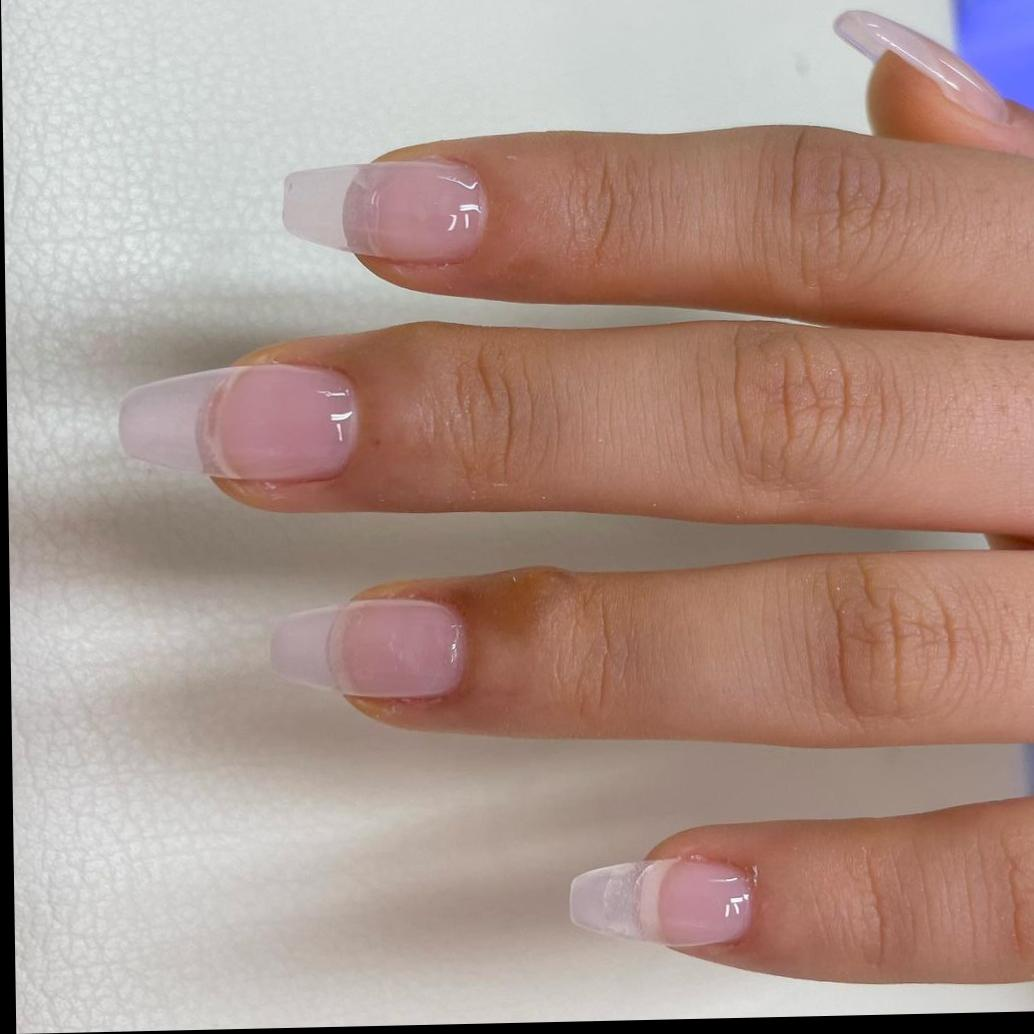nail: (117, 360, 361, 491), (281, 155, 490, 273), (832, 6, 1012, 134), (270, 596, 468, 705), (567, 854, 756, 953)
